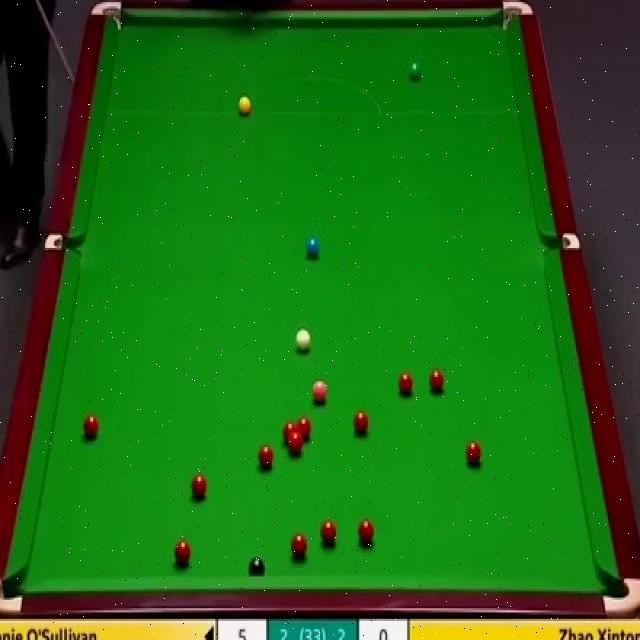black-ball: (248, 557, 265, 577)
blue-ball: (304, 233, 320, 260)
green-ball: (406, 62, 422, 82)
pink-ball: (312, 376, 328, 404)
red-ball: (396, 370, 414, 400), (83, 413, 101, 442), (464, 443, 482, 470), (190, 473, 207, 501), (174, 539, 191, 566), (320, 520, 337, 547), (358, 518, 374, 546), (352, 409, 368, 436), (292, 533, 308, 559), (428, 370, 444, 396), (258, 444, 273, 470), (297, 418, 312, 443), (288, 434, 302, 456), (283, 421, 297, 443)
white-ball: (295, 327, 312, 353)
yellow-ball: (237, 94, 251, 116)
